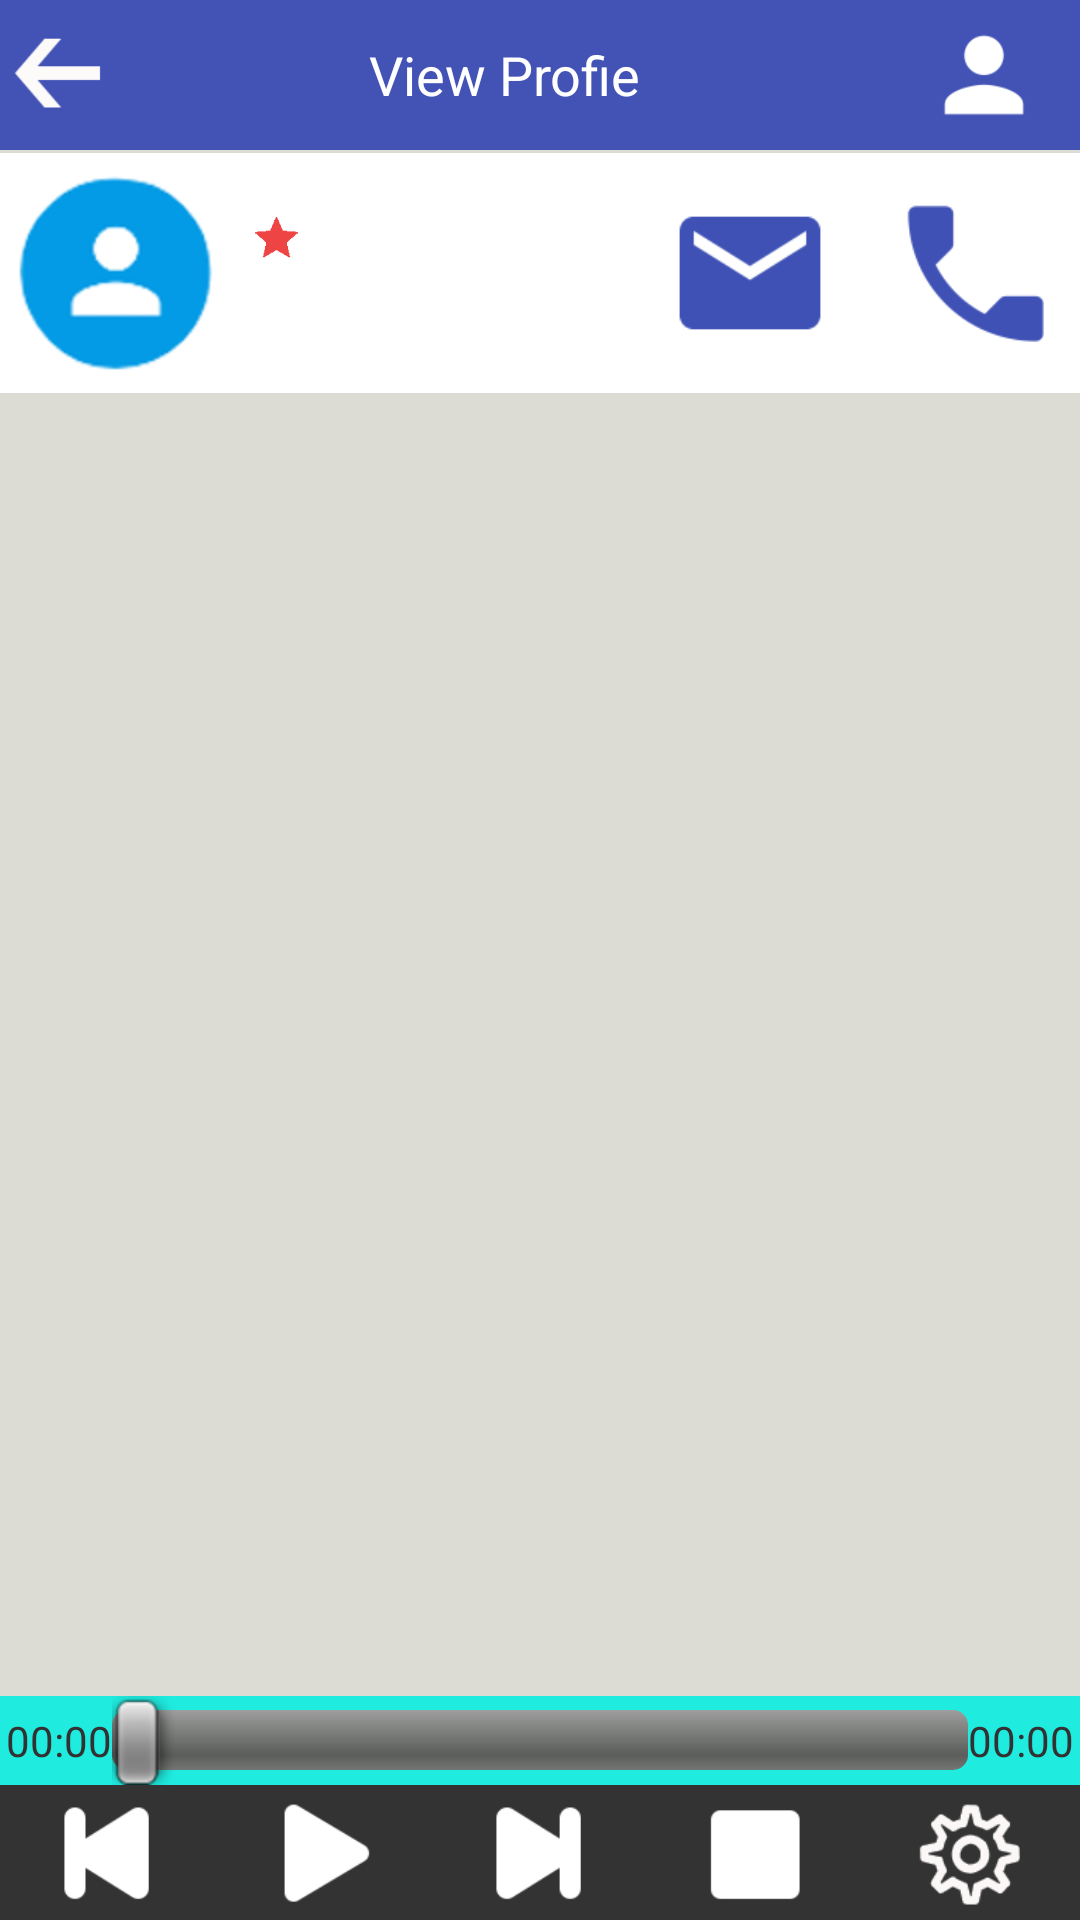

Where icons sit on this 1080px x 1920px app screen, as region(x1, y1, x2, y2):
jiantou: region(15, 38, 100, 108)
mail: region(679, 216, 821, 330)
nexta: region(496, 1807, 581, 1899)
phone: region(907, 205, 1044, 342)
playa: region(284, 1804, 370, 1902)
setting: region(919, 1804, 1020, 1905)
skipa: region(64, 1807, 149, 1899)
star: region(255, 217, 298, 258)
stopa: region(710, 1810, 800, 1899)
